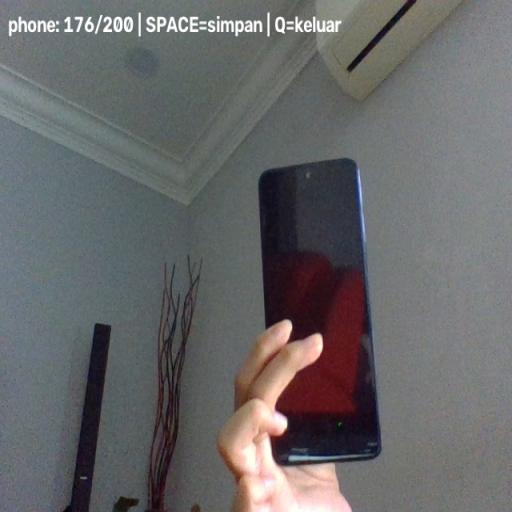Phone: (256, 158, 382, 467)
